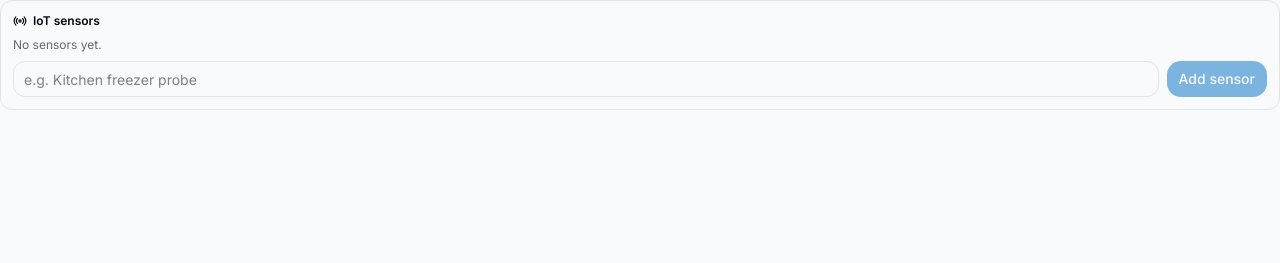
SensorPanel › shows a new key once and revokes
Expected: the text "No sensors yet." is shown, 13,37 -> 102,52
Type "Probe" into the field named "sensor name".
click(586, 79); type("Probe")  # box 13,61 -> 1158,97
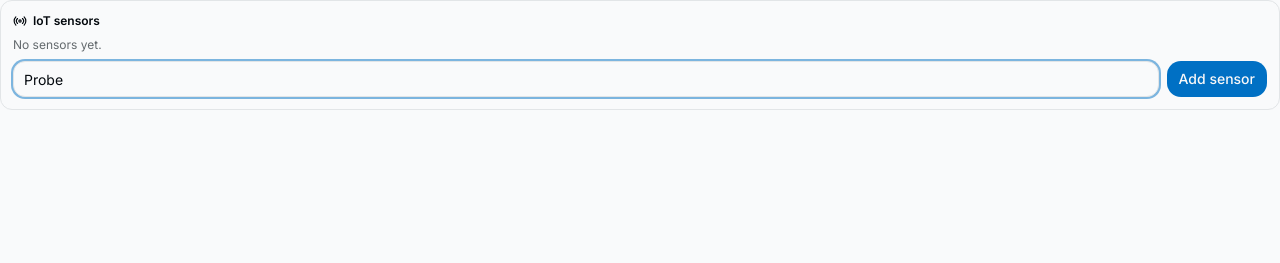
Click the button "Add sensor".
click(1217, 79)  # box 1166,61 -> 1267,97
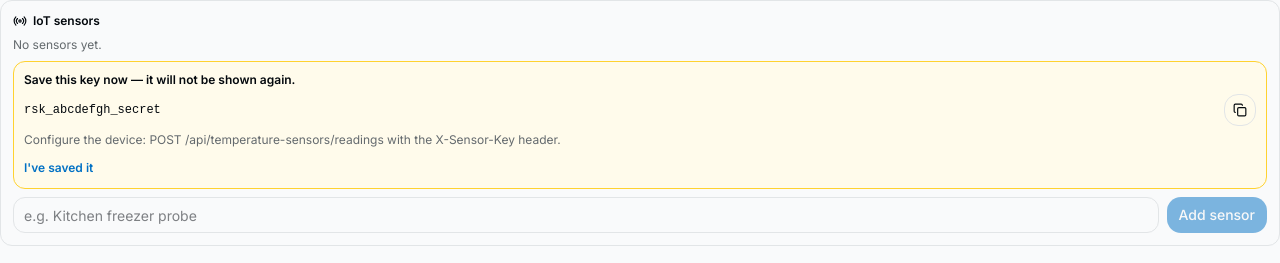
Expected: the text with test id "sensor-key" reads "rsk_abcdefgh_secret", 24,103 -> 161,117
Click the button "I've saved it".
click(59, 168)  # box 24,160 -> 93,176
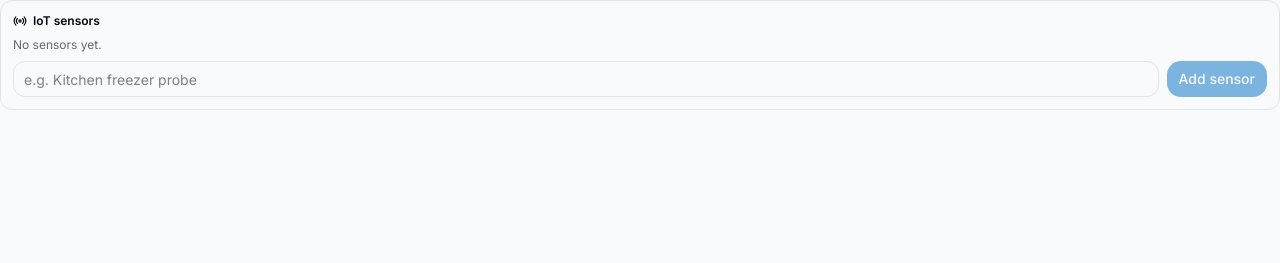
Expected: the text with test id "sensor-key" is gone
